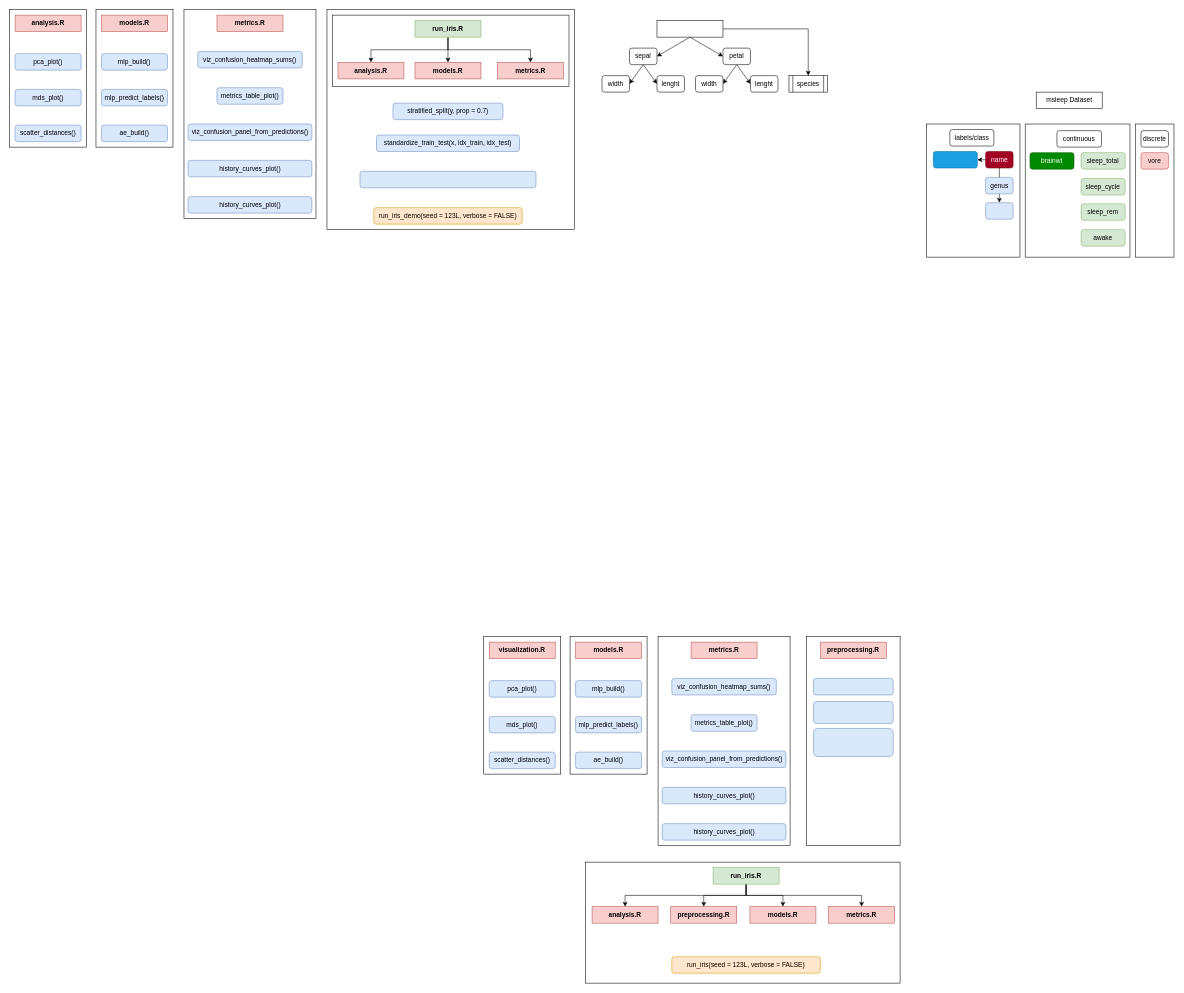
This 1184x993 diagram has some shape labels left out. The shapes that lost their labels are listed below. From the top down, each one's centre as x and y in pixels, then its label:
[689,28]: IRIS Dataset
[447,179]: predict_by_centroids(z_train, y_train, z_test, class_levels)
[955,159]: conservation
[999,210]: order
[853,686]: stratified_split (y, prop = 0.7)
[853,712]: standardize_train_test (x, idx_train, idx_test)
[853,742]: predict_by_centroids (z_train, y_train, z_test, class_levels)
